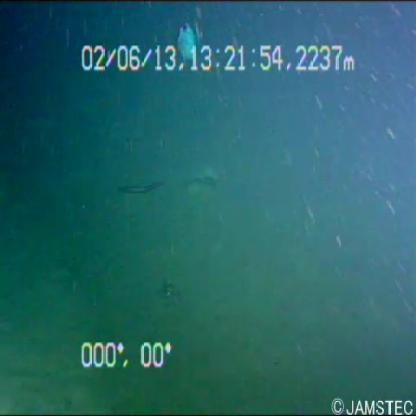Rác: (176, 13, 202, 72)
